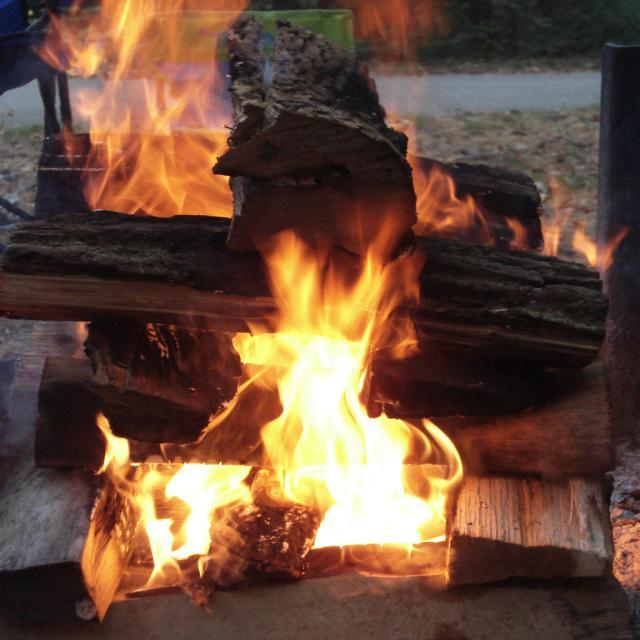Fire: (286, 341, 364, 498), (327, 503, 429, 541)
